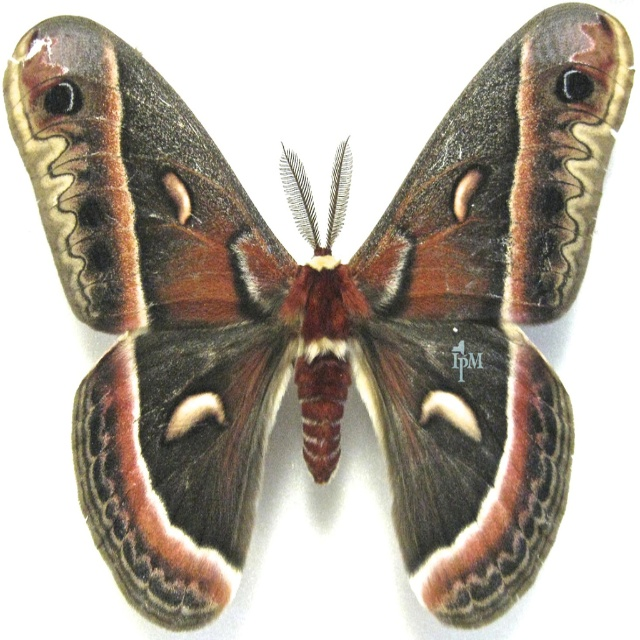Butterfly: (13, 16, 610, 640)
